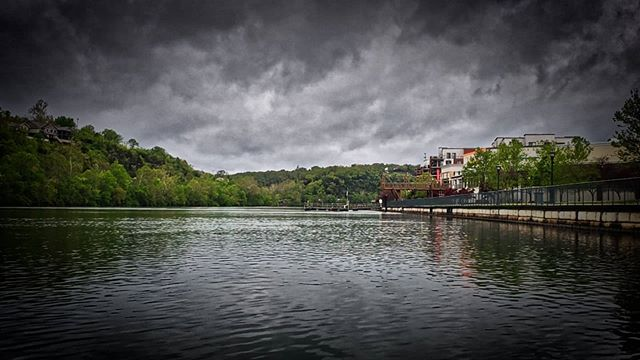building: (439, 135, 583, 200), (15, 117, 75, 149)
sea: (1, 210, 596, 360)
sky: (4, 1, 640, 125)
vegetation: (1, 158, 401, 204)
